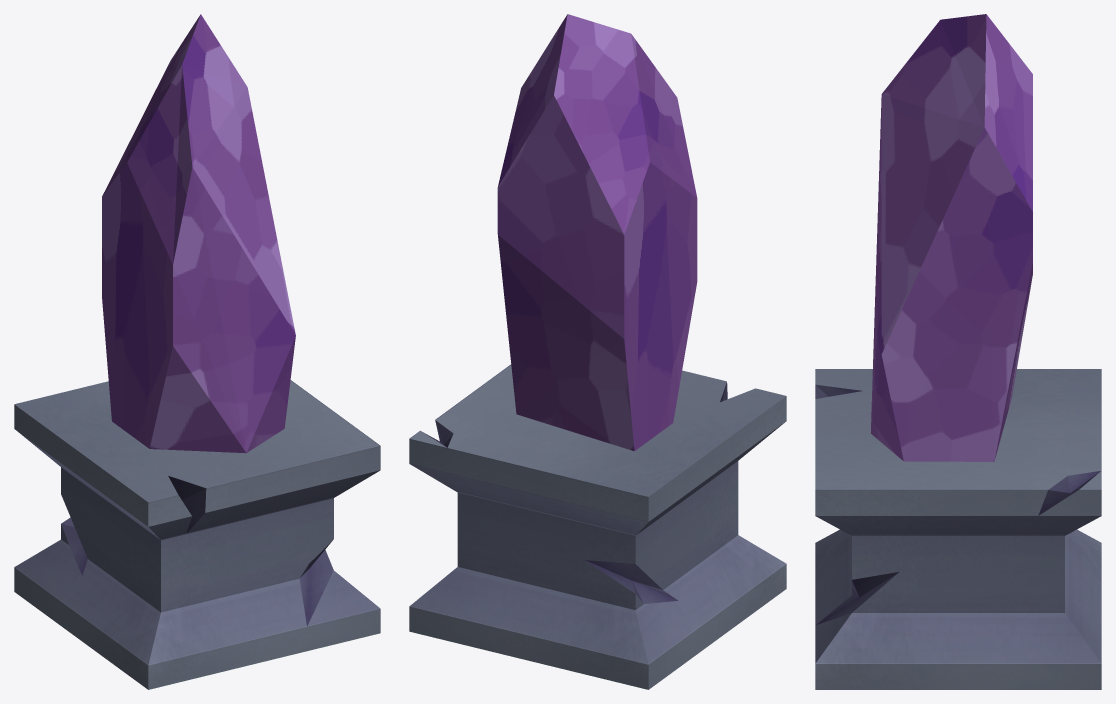
The model's file is col4.fbx.
The picture shows the model from 3 angles, left to right: view 1: azimuth 30°, elevation 25°; view 2: azimuth 150°, elevation 25°; view 3: azimuth 270°, elevation 25°; orthographic projection. The views are drawn at different scales.
Parts seen in each view (by area): view 1: ModularAssetsDisplay.002; view 2: ModularAssetsDisplay.002; view 3: ModularAssetsDisplay.002.
Boxes of the visible parts, bbox=[...] form: ModularAssetsDisplay.002: bbox=[14, 14, 380, 689]; ModularAssetsDisplay.002: bbox=[409, 14, 786, 689]; ModularAssetsDisplay.002: bbox=[815, 14, 1101, 689].
Size of the model in its own units: 41.01 by 98.62 by 41.01.
